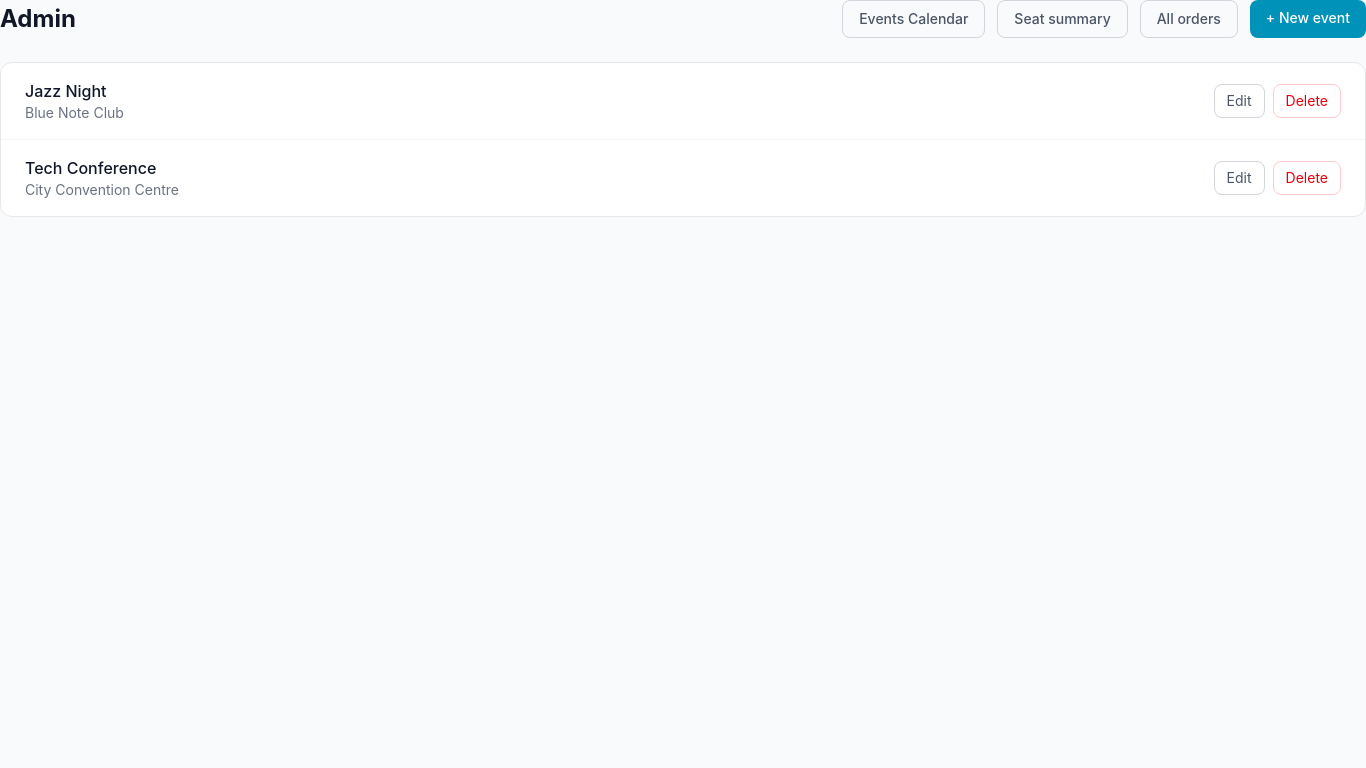
shows error message and keeps event in list when DELETE fails
Expected: the text "Jazz Night" is shown, [25,81,107,101]
Click the button "Delete" in the row of "Jazz Night" at (1307, 101), box [1273,84,1341,118]
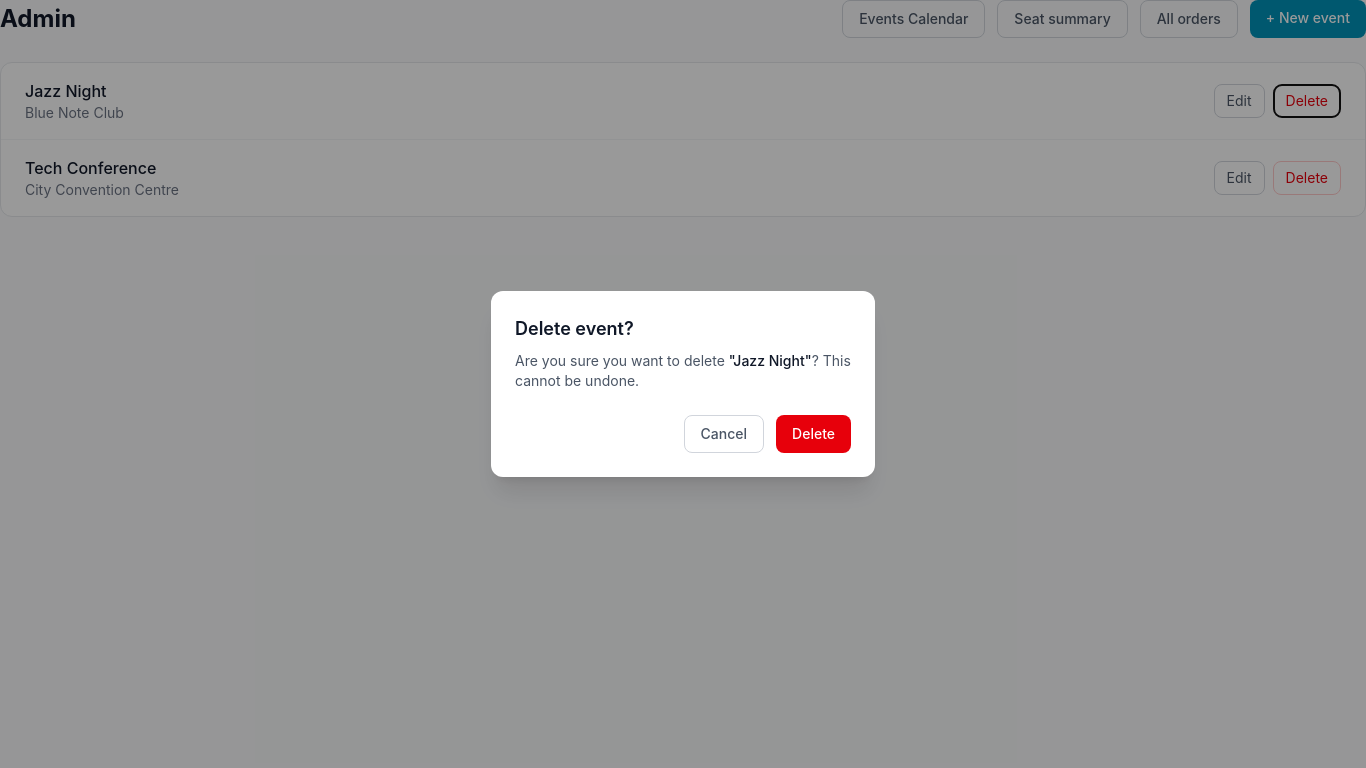
Click the button "Delete" at (814, 434), box [776,415,851,453]
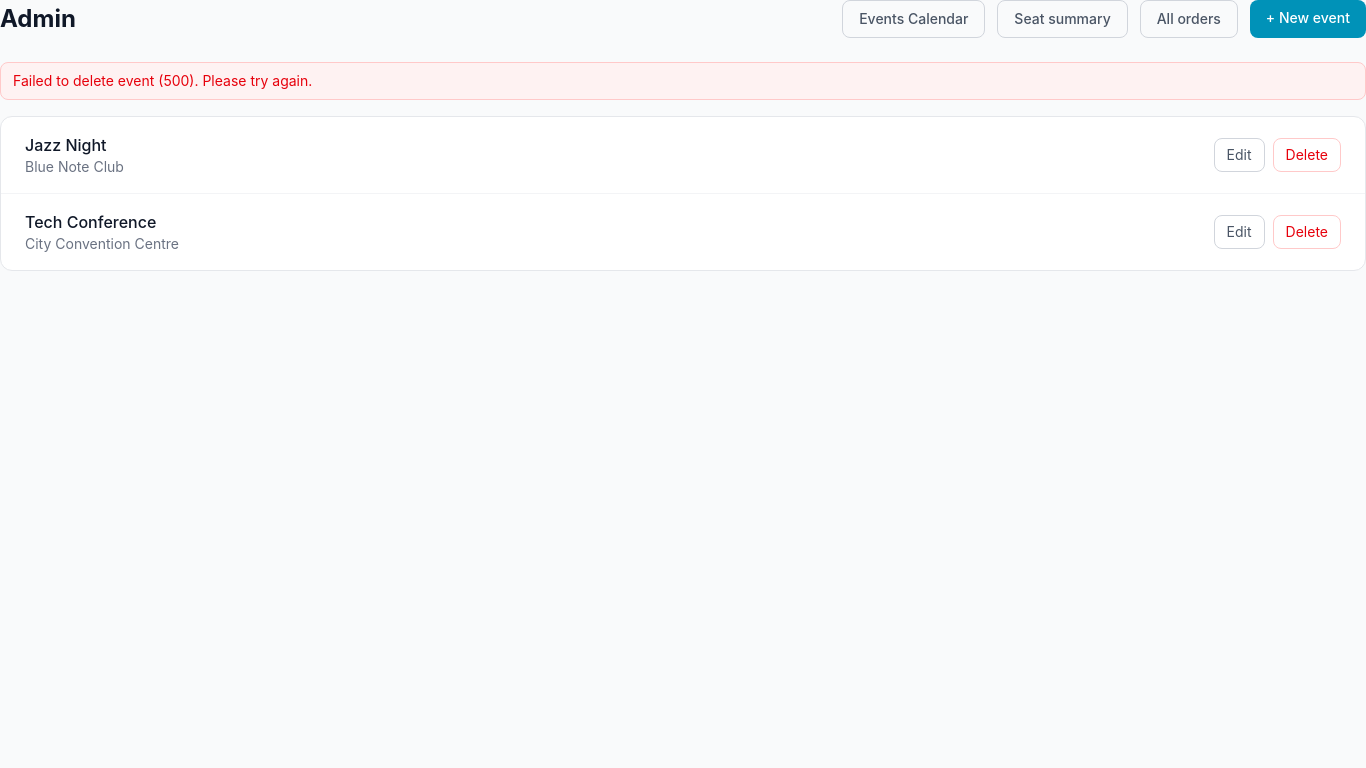
Expected: the text "Jazz Night" is shown, [25,135,107,155]
Now the text "Failed to delete event (500). Please try again." is shown, box [0,62,1365,100]
Now the dialog is gone
